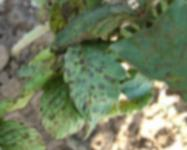Tomato leaf bacterial spot: (25, 18, 142, 141), (41, 0, 147, 81), (34, 0, 120, 43)
